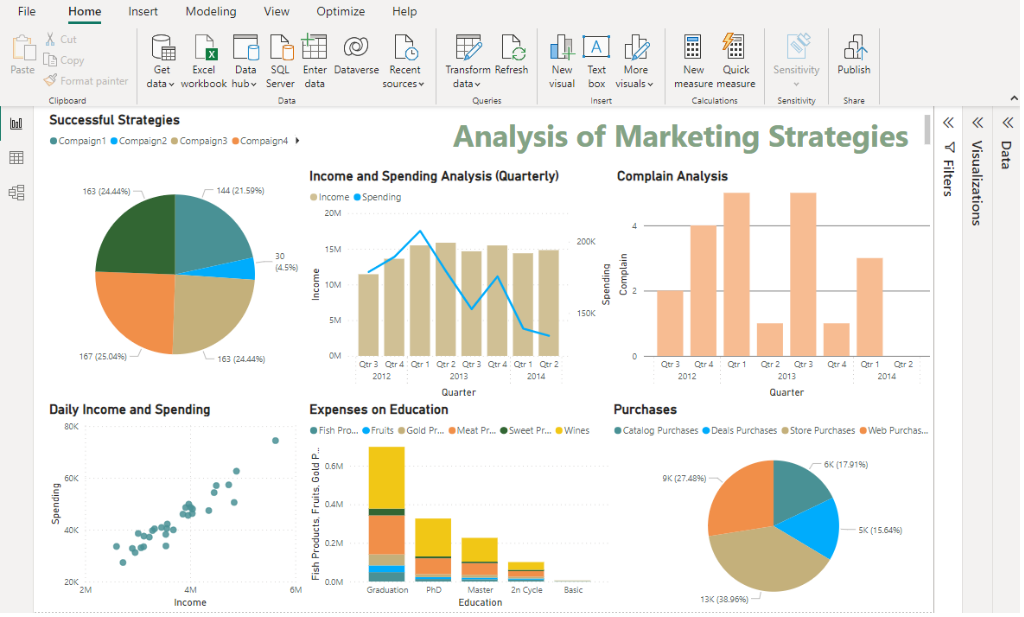

The page's visual inventory and layout, read from the dashboard file:
{"tool":"powerbi","page":{"name":"Page 1","canvas":[1280,720],"ordinal":0},"visuals":[{"type":"textbox","box":[591.3,6.8,688.7,66.2],"z":0},{"type":"pieChart","title":"Successful Strategies","fields":{"Y":["Sum(marketing_campaign.AcceptedCmp1)","Sum(marketing_campaign.AcceptedCmp2)","Sum(marketing_campaign.AcceptedCmp3)","Sum(marketing_campaign.AcceptedCmp4)","Sum(marketing_campaign.AcceptedCmp5)"]},"box":[17.5,6.8,368.2,413],"z":1000},{"type":"pieChart","title":"Purchases","fields":{"Y":["Sum(marketing_campaign.NumCatalogPurchases)","Sum(marketing_campaign.NumDealsPurchases)","Sum(marketing_campaign.NumStorePurchases)","Sum(marketing_campaign.NumWebPurchases)"]},"box":[825.1,419.8,454.9,300],"z":2000},{"type":"scatterChart","title":"Daily Income and Spending","fields":{"X":["Sum(marketing_campaign.Income)"],"Y":["Sum(marketing_campaign.Spending)"],"Category":["marketing_campaign.Dt_Customer.Variation.Date Hierarchy.Day"]},"box":[17.5,419.8,369.2,300],"z":3000},{"type":"columnChart","title":"Expenses on Education","fields":{"Category":["marketing_campaign.Education"],"Y":["Sum(marketing_campaign.MntFishProducts)","Sum(marketing_campaign.MntFruits)","Sum(marketing_campaign.MntGoldProds)","Sum(marketing_campaign.MntMeatProducts)","Sum(marketing_campaign.MntSweetProducts)","Sum(marketing_campaign.MntWines)"]},"box":[386.7,419.8,438.4,300],"z":4000},{"type":"lineStackedColumnComboChart","title":"Income and Spending Analysis (Quarterly)","fields":{"Y":["Sum(marketing_campaign.Income)"],"Y2":["Sum(marketing_campaign.Spending)"],"Category":["marketing_campaign.Dt_Customer.Variation.Date Hierarchy.Year","marketing_campaign.Dt_Customer.Variation.Date Hierarchy.Quarter"]},"box":[386.7,87.7,438.4,332.2],"z":5000},{"type":"columnChart","title":"Complain Analysis","fields":{"Y":["Sum(marketing_campaign.Complain)"],"Category":["marketing_campaign.Dt_Customer.Variation.Date Hierarchy.Year","marketing_campaign.Dt_Customer.Variation.Date Hierarchy.Quarter"]},"box":[825.1,87.7,454.9,332.2],"z":6000}]}

Visuals, with their boxes on the page's 1280x720 design canvas (x1, y1, x2, y2). These are canvas units, not pixel positions in the 1024x617 screenshot, which may show the page scaled, cropped or inside an application window:
textbox: left=591, top=7, right=1280, bottom=73
"Successful Strategies" pieChart: left=18, top=7, right=386, bottom=420
"Purchases" pieChart: left=825, top=420, right=1280, bottom=720
"Daily Income and Spending" scatterChart: left=18, top=420, right=387, bottom=720
"Expenses on Education" columnChart: left=387, top=420, right=825, bottom=720
"Income and Spending Analysis (Quarterly)" lineStackedColumnComboChart: left=387, top=88, right=825, bottom=420
"Complain Analysis" columnChart: left=825, top=88, right=1280, bottom=420
